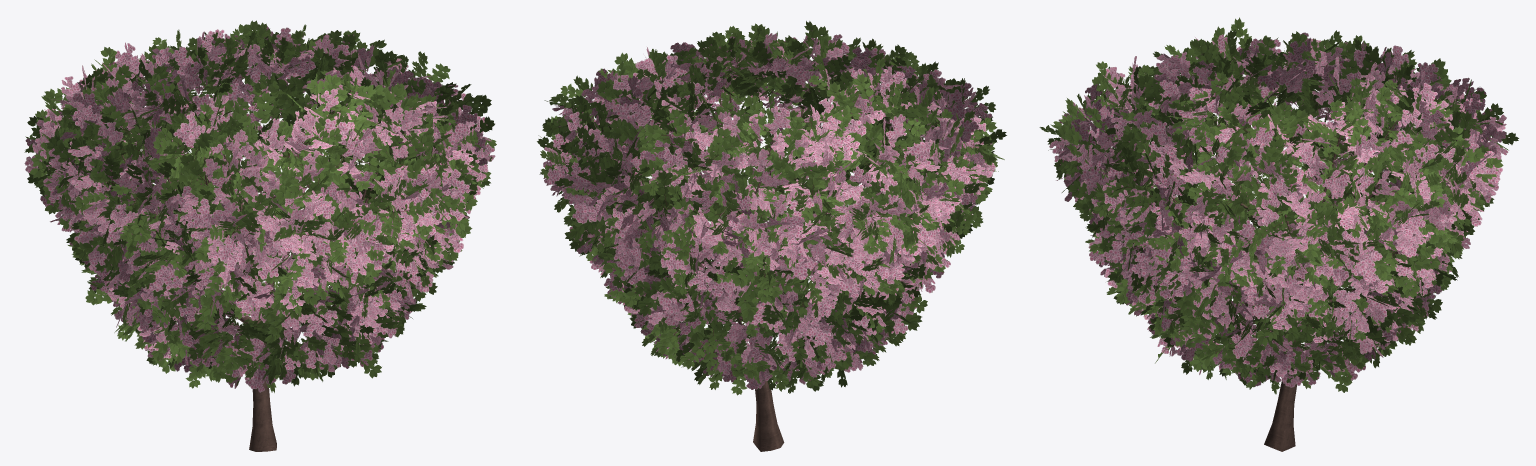
The model's file is cerisier.glb.
3 renders of one model, left to right at view 1: azimuth 30°, elevation 25°; view 2: azimuth 150°, elevation 25°; view 3: azimuth 270°, elevation 25°, orthographic. The views are drawn at different scales.
Parts seen in each view (by area): view 1: cerisier_feuilles, cerisier_fleurs, cerisier_ecorce; view 2: cerisier_feuilles, cerisier_fleurs, cerisier_ecorce; view 3: cerisier_feuilles, cerisier_fleurs, cerisier_ecorce.
Part boxes in pixels (x1,y1,x2,y2): cerisier_feuilles: (24, 20, 496, 392); cerisier_fleurs: (24, 26, 495, 392); cerisier_ecorce: (122, 106, 398, 451); cerisier_feuilles: (537, 21, 1006, 395); cerisier_fleurs: (543, 30, 995, 389); cerisier_ecorce: (625, 89, 865, 451); cerisier_feuilles: (1039, 17, 1518, 394); cerisier_fleurs: (1049, 32, 1508, 387); cerisier_ecorce: (1171, 117, 1397, 451).
Size of the model in its own units: 10.13 by 8.91 by 10.14.
3 materials, 3 textured.
